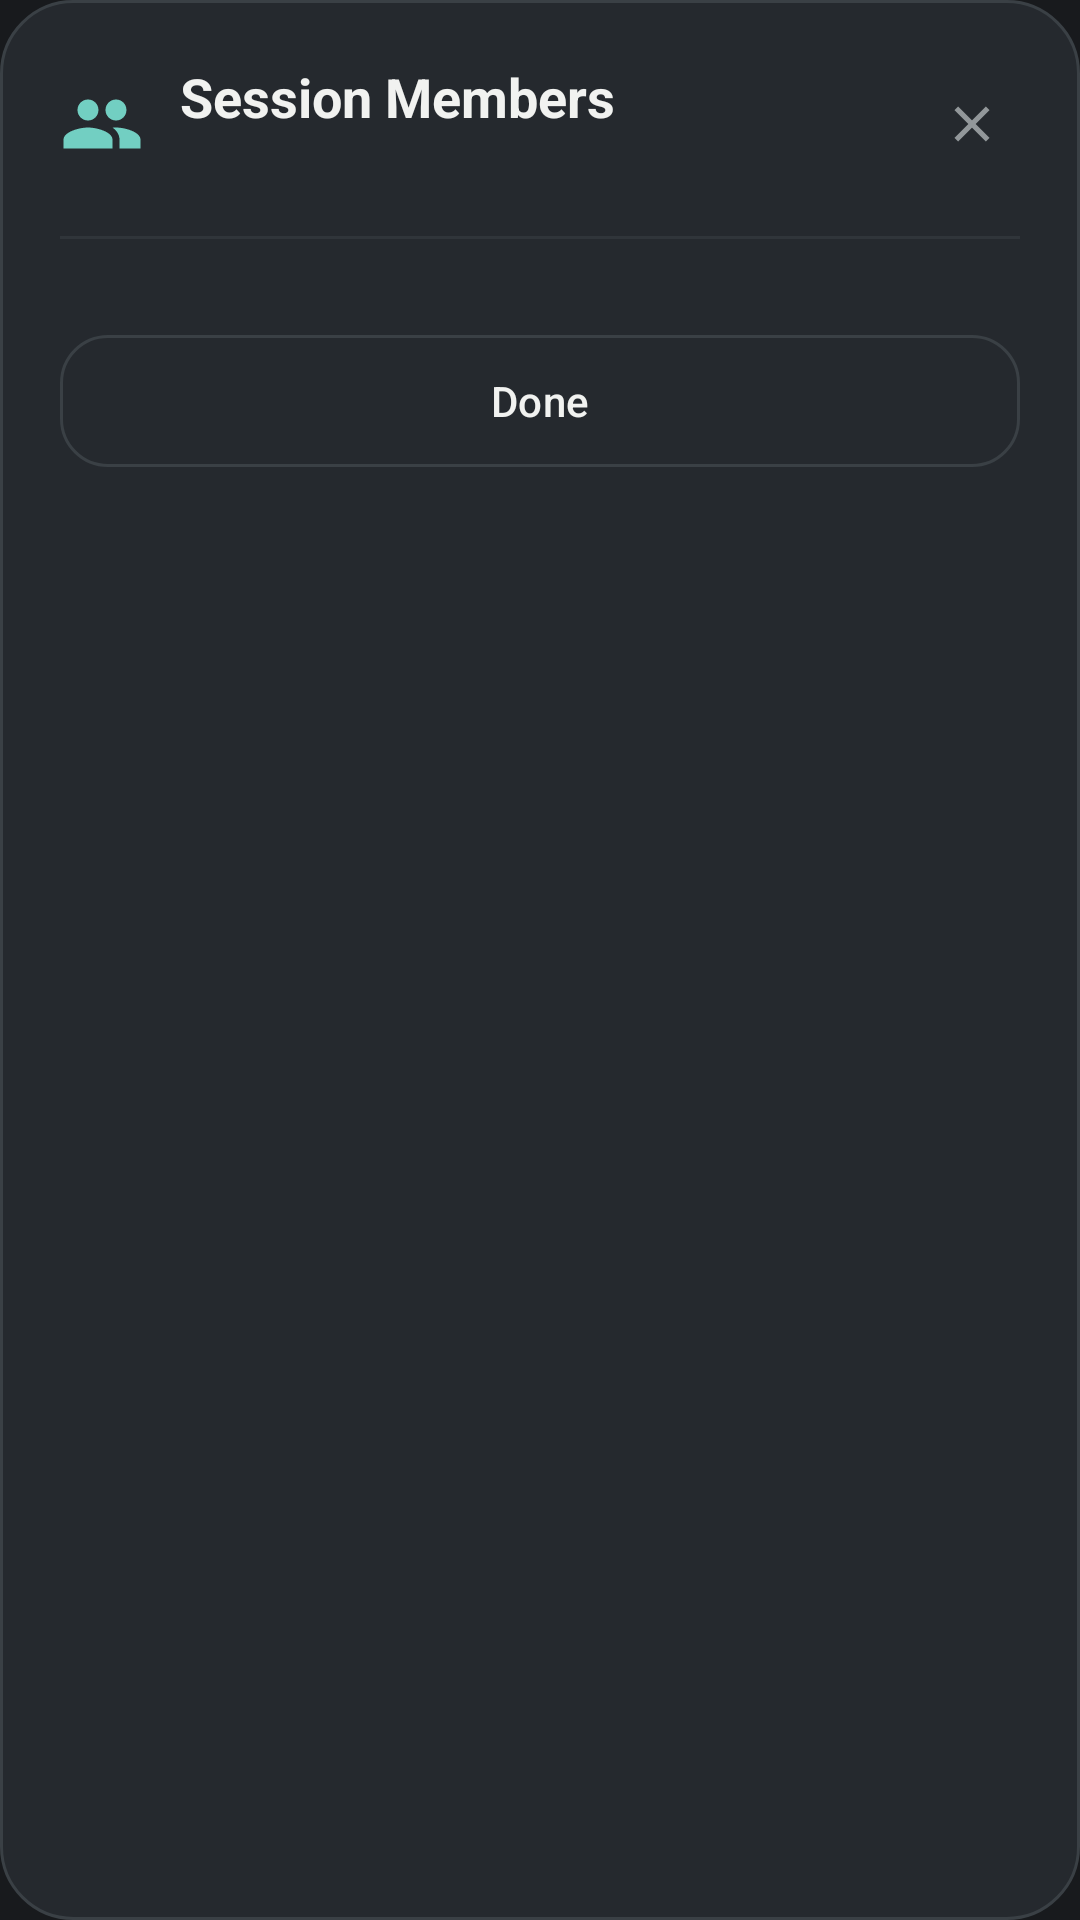

Icon bounding boxes for this 1080w x 1920h phone screenshot, format (x1, y1, x2, y2):
Cancel: (955, 107, 989, 141)
